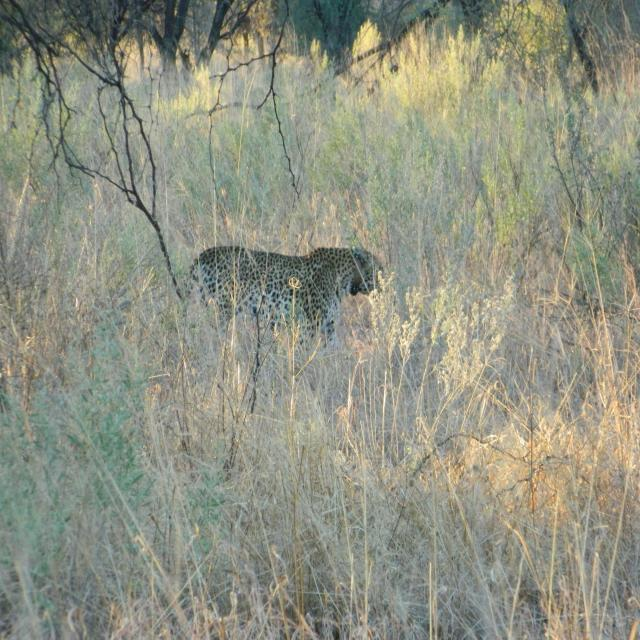Leopard: (161, 229, 386, 362)
